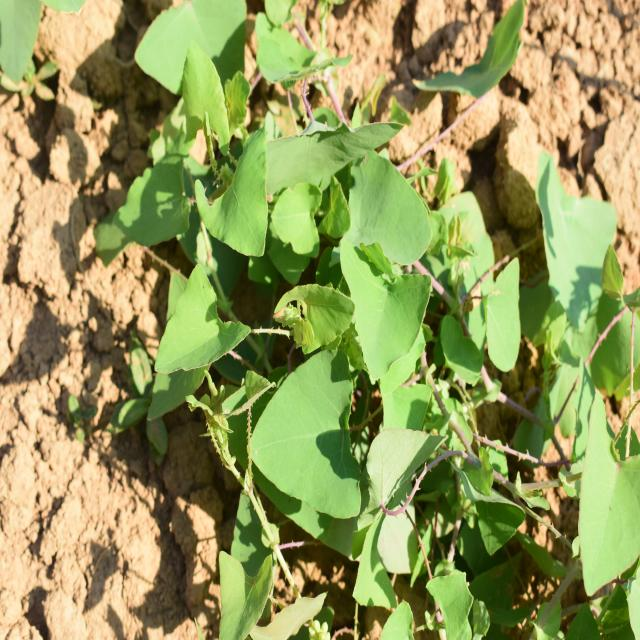Asiatic_Smartweed: (238, 246, 443, 562), (212, 100, 438, 277), (150, 259, 251, 387)
